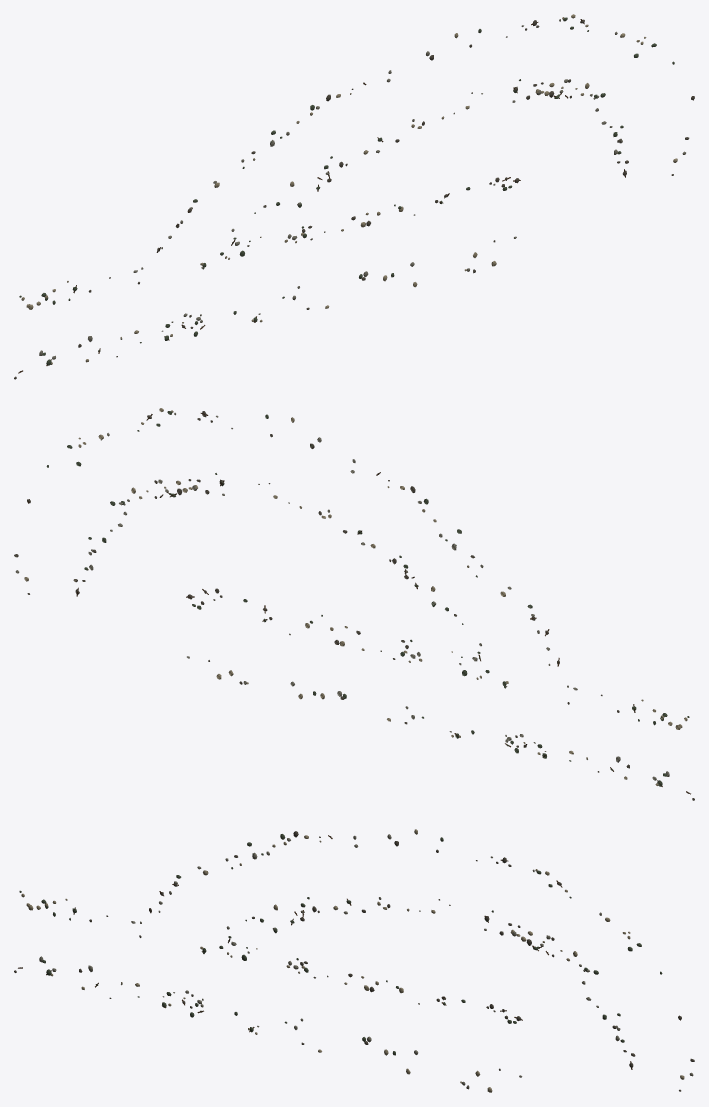
File: roadside_details.obj
3 renders of one model, top to bottom at view 1: azimuth 30°, elevation 25°; view 2: azimuth 150°, elevation 25°; view 3: azimuth 330°, elevation 25°, orthographic.
Visible parts, largest first — view 1: roadside_details; view 2: roadside_details; view 3: roadside_details.
Part boxes in pixels (<box>): roadside_details: <box>14,14,694,379</box>; roadside_details: <box>14,408,694,800</box>; roadside_details: <box>14,829,694,1092</box>.
Size of the model in its own units: 65.46 by 24.2 by 3.95.
